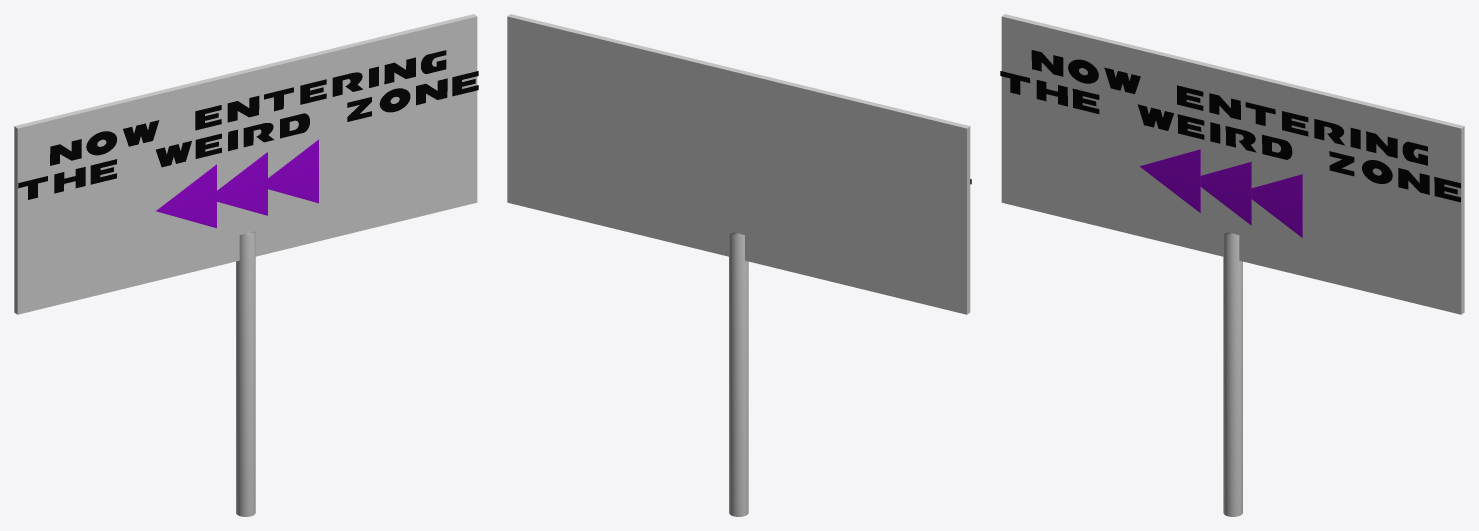
The model's file is Alt_Directional Sign.fbx.
3 views of the same model, side by side, from view 1: azimuth 30°, elevation 25°; view 2: azimuth 150°, elevation 25°; view 3: azimuth 330°, elevation 25° (orthographic).
Parts seen in each view (by area): view 1: Cube, Text, Cylinder, Arrow, Cone.001, Cone.002; view 2: Cube, Cylinder; view 3: Cube, Text, Cylinder, Arrow, Cone.001, Cone.002.
Boxes of the visible parts, <box> form: Cube: <box>14,14,477,314</box>; Text: <box>18,50,478,199</box>; Cylinder: <box>236,231,255,516</box>; Arrow: <box>156,164,216,228</box>; Cone.001: <box>217,152,267,215</box>; Cone.002: <box>268,139,318,203</box>; Cube: <box>507,14,970,314</box>; Cylinder: <box>729,231,748,516</box>; Cube: <box>1001,14,1464,314</box>; Text: <box>1000,50,1460,202</box>; Cylinder: <box>1223,231,1242,516</box>; Arrow: <box>1140,149,1200,212</box>; Cone.001: <box>1200,161,1251,225</box>; Cone.002: <box>1251,174,1302,237</box>.
Bounding box in the file's own units: 814 × 745 × 29.82.
